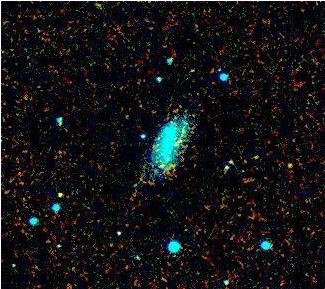star: (276, 150, 306, 180)
